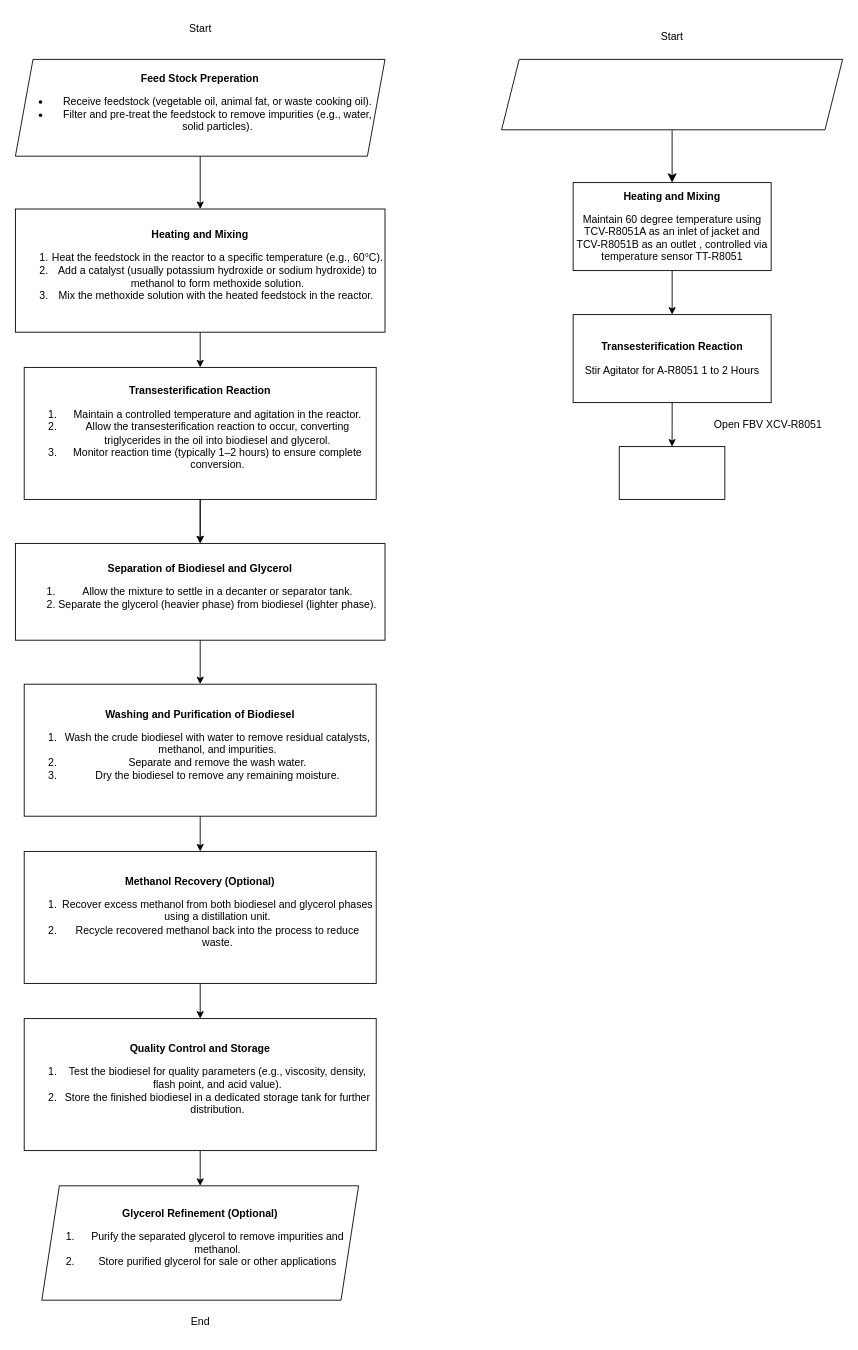
The diagram is 858 pixels wide and 1350 high, and some of its shapes have lost their labels. Each missing label, with the centre of its shape:
Feed Stock Preperation Receive Feed, Open Valve XV-T8051 and XCV-T8001: the point at 672,94
Seperator Allow mixture to be settled in for 3 hr: the point at 671,472
